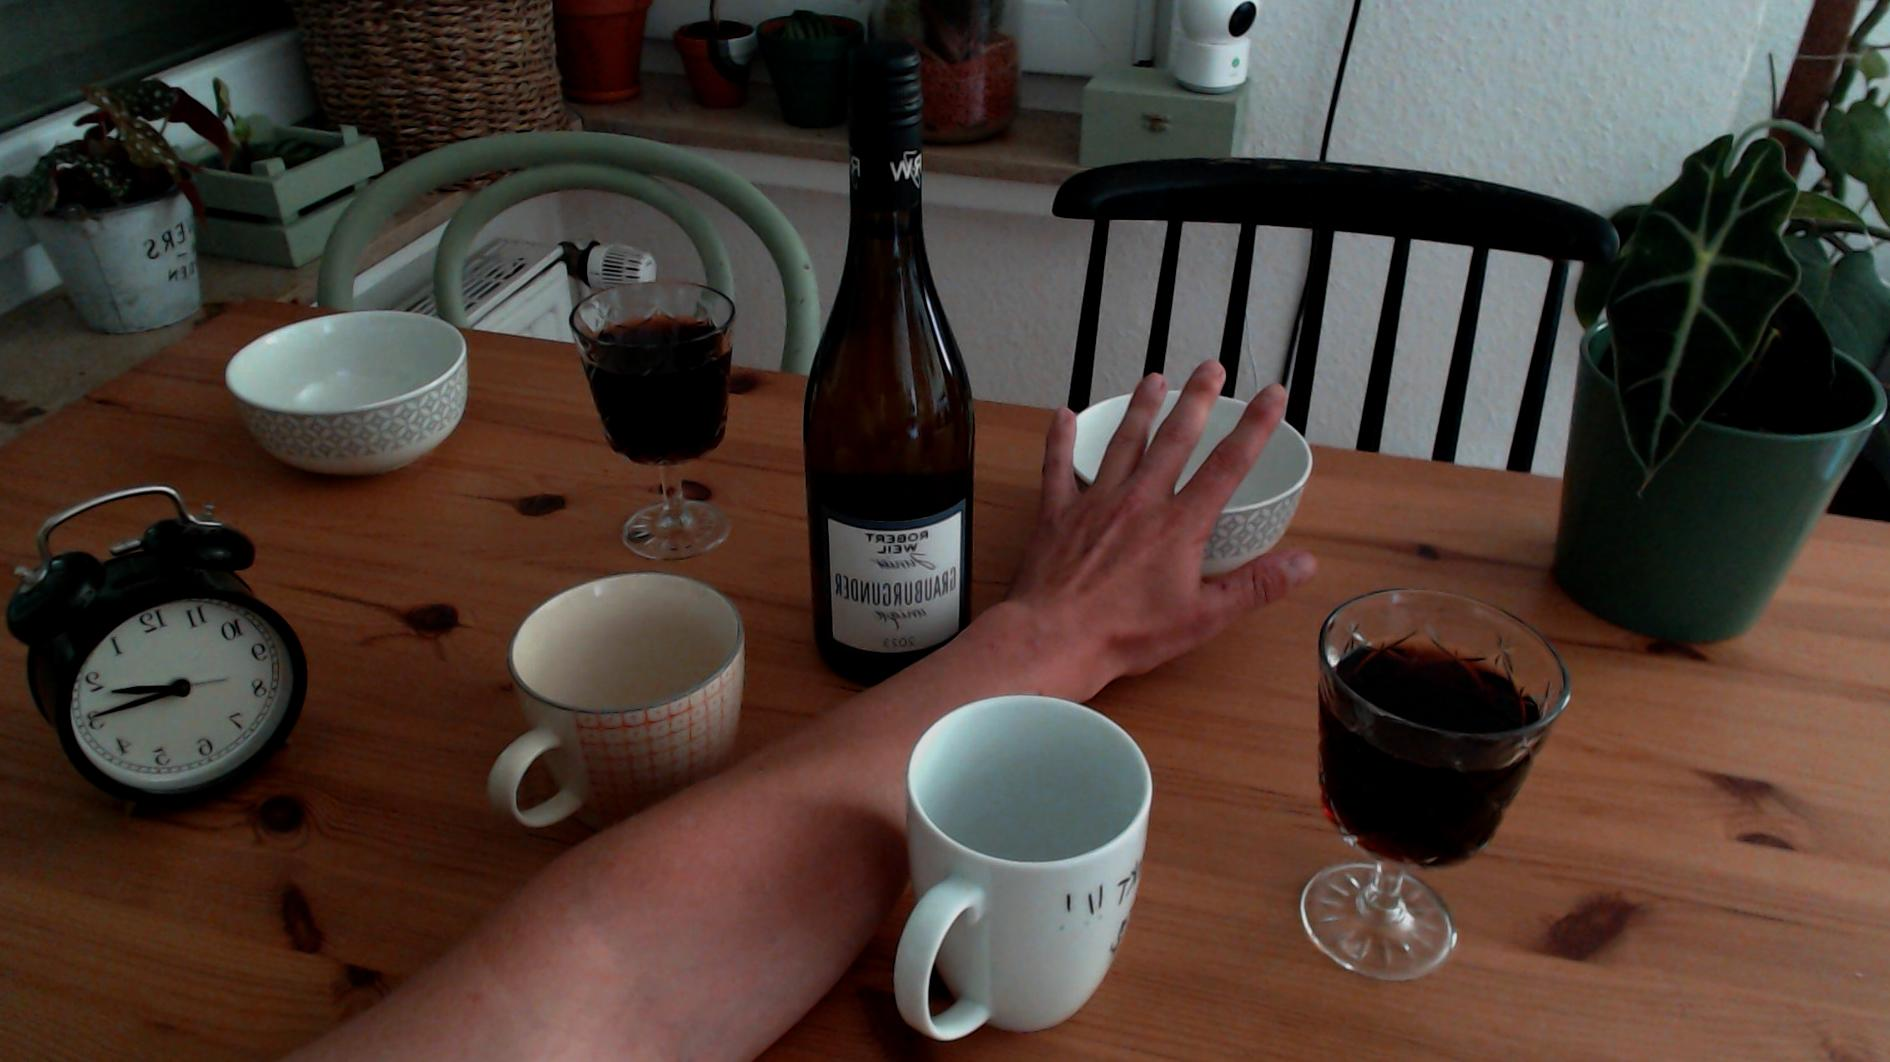bottle: (804, 38, 976, 685)
bowl_close: (1062, 379, 1312, 579)
bowl_far: (225, 309, 469, 480)
clock: (64, 593, 302, 801)
cup_close: (890, 693, 1153, 1044)
cup_far: (485, 571, 744, 837)
hand_far: (955, 357, 1298, 695)
potted_plant: (1550, 130, 1884, 650)
wineglass_close: (1303, 587, 1572, 982)
wineglass_far: (569, 278, 737, 560)
